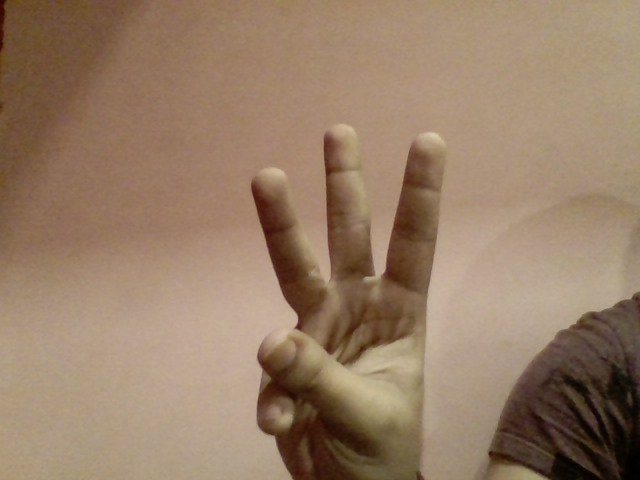w: (231, 110, 456, 480)
